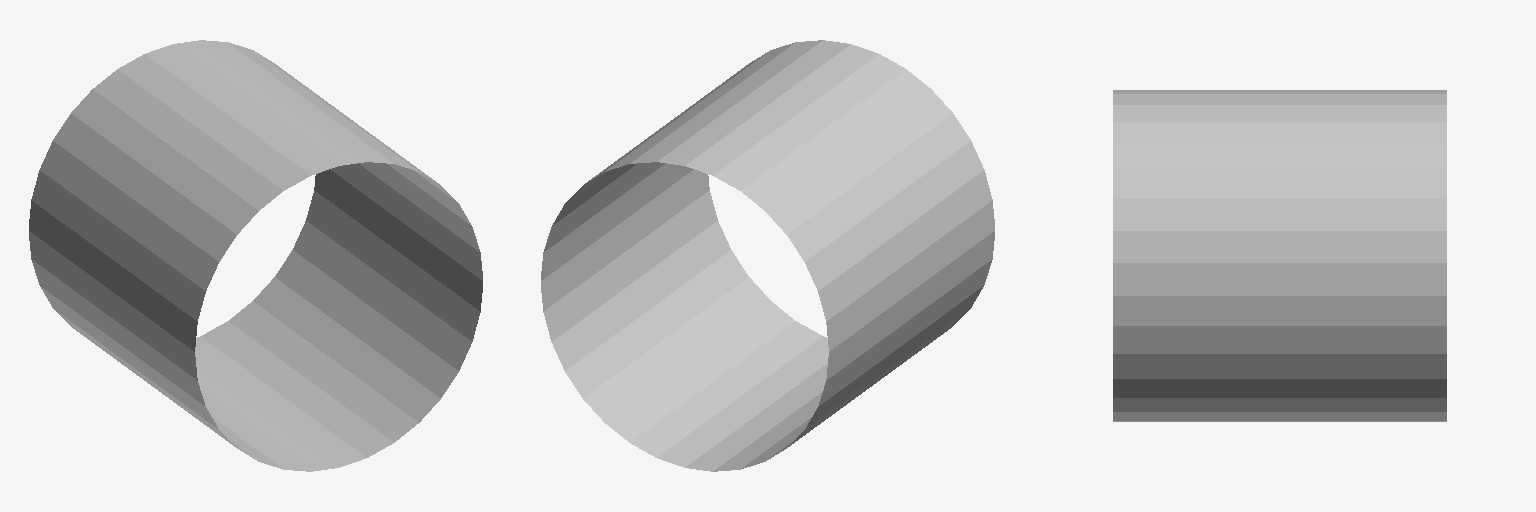
The model's file is cylinderOpen.obj.
3 renders of one model, left to right at view 1: azimuth 30°, elevation 25°; view 2: azimuth 150°, elevation 25°; view 3: azimuth 270°, elevation 25°, orthographic.
Visible parts, largest first — view 1: pCylinder1; view 2: pCylinder1; view 3: pCylinder1.
Part boxes in pixels (bbox=[...]): pCylinder1: bbox=[29, 40, 482, 471]; pCylinder1: bbox=[541, 40, 994, 471]; pCylinder1: bbox=[1113, 90, 1446, 421].
Bounding box in the file's own units: 2 × 2 × 2.